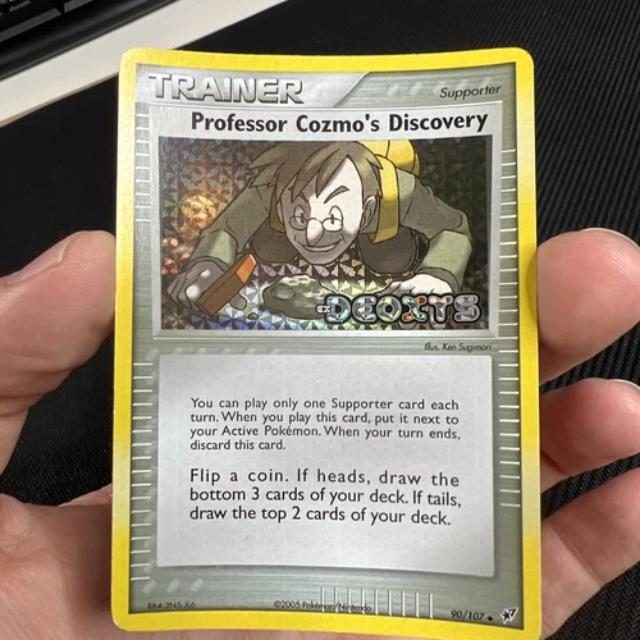Card: (105, 40, 546, 639)
Name: (188, 104, 494, 139)
